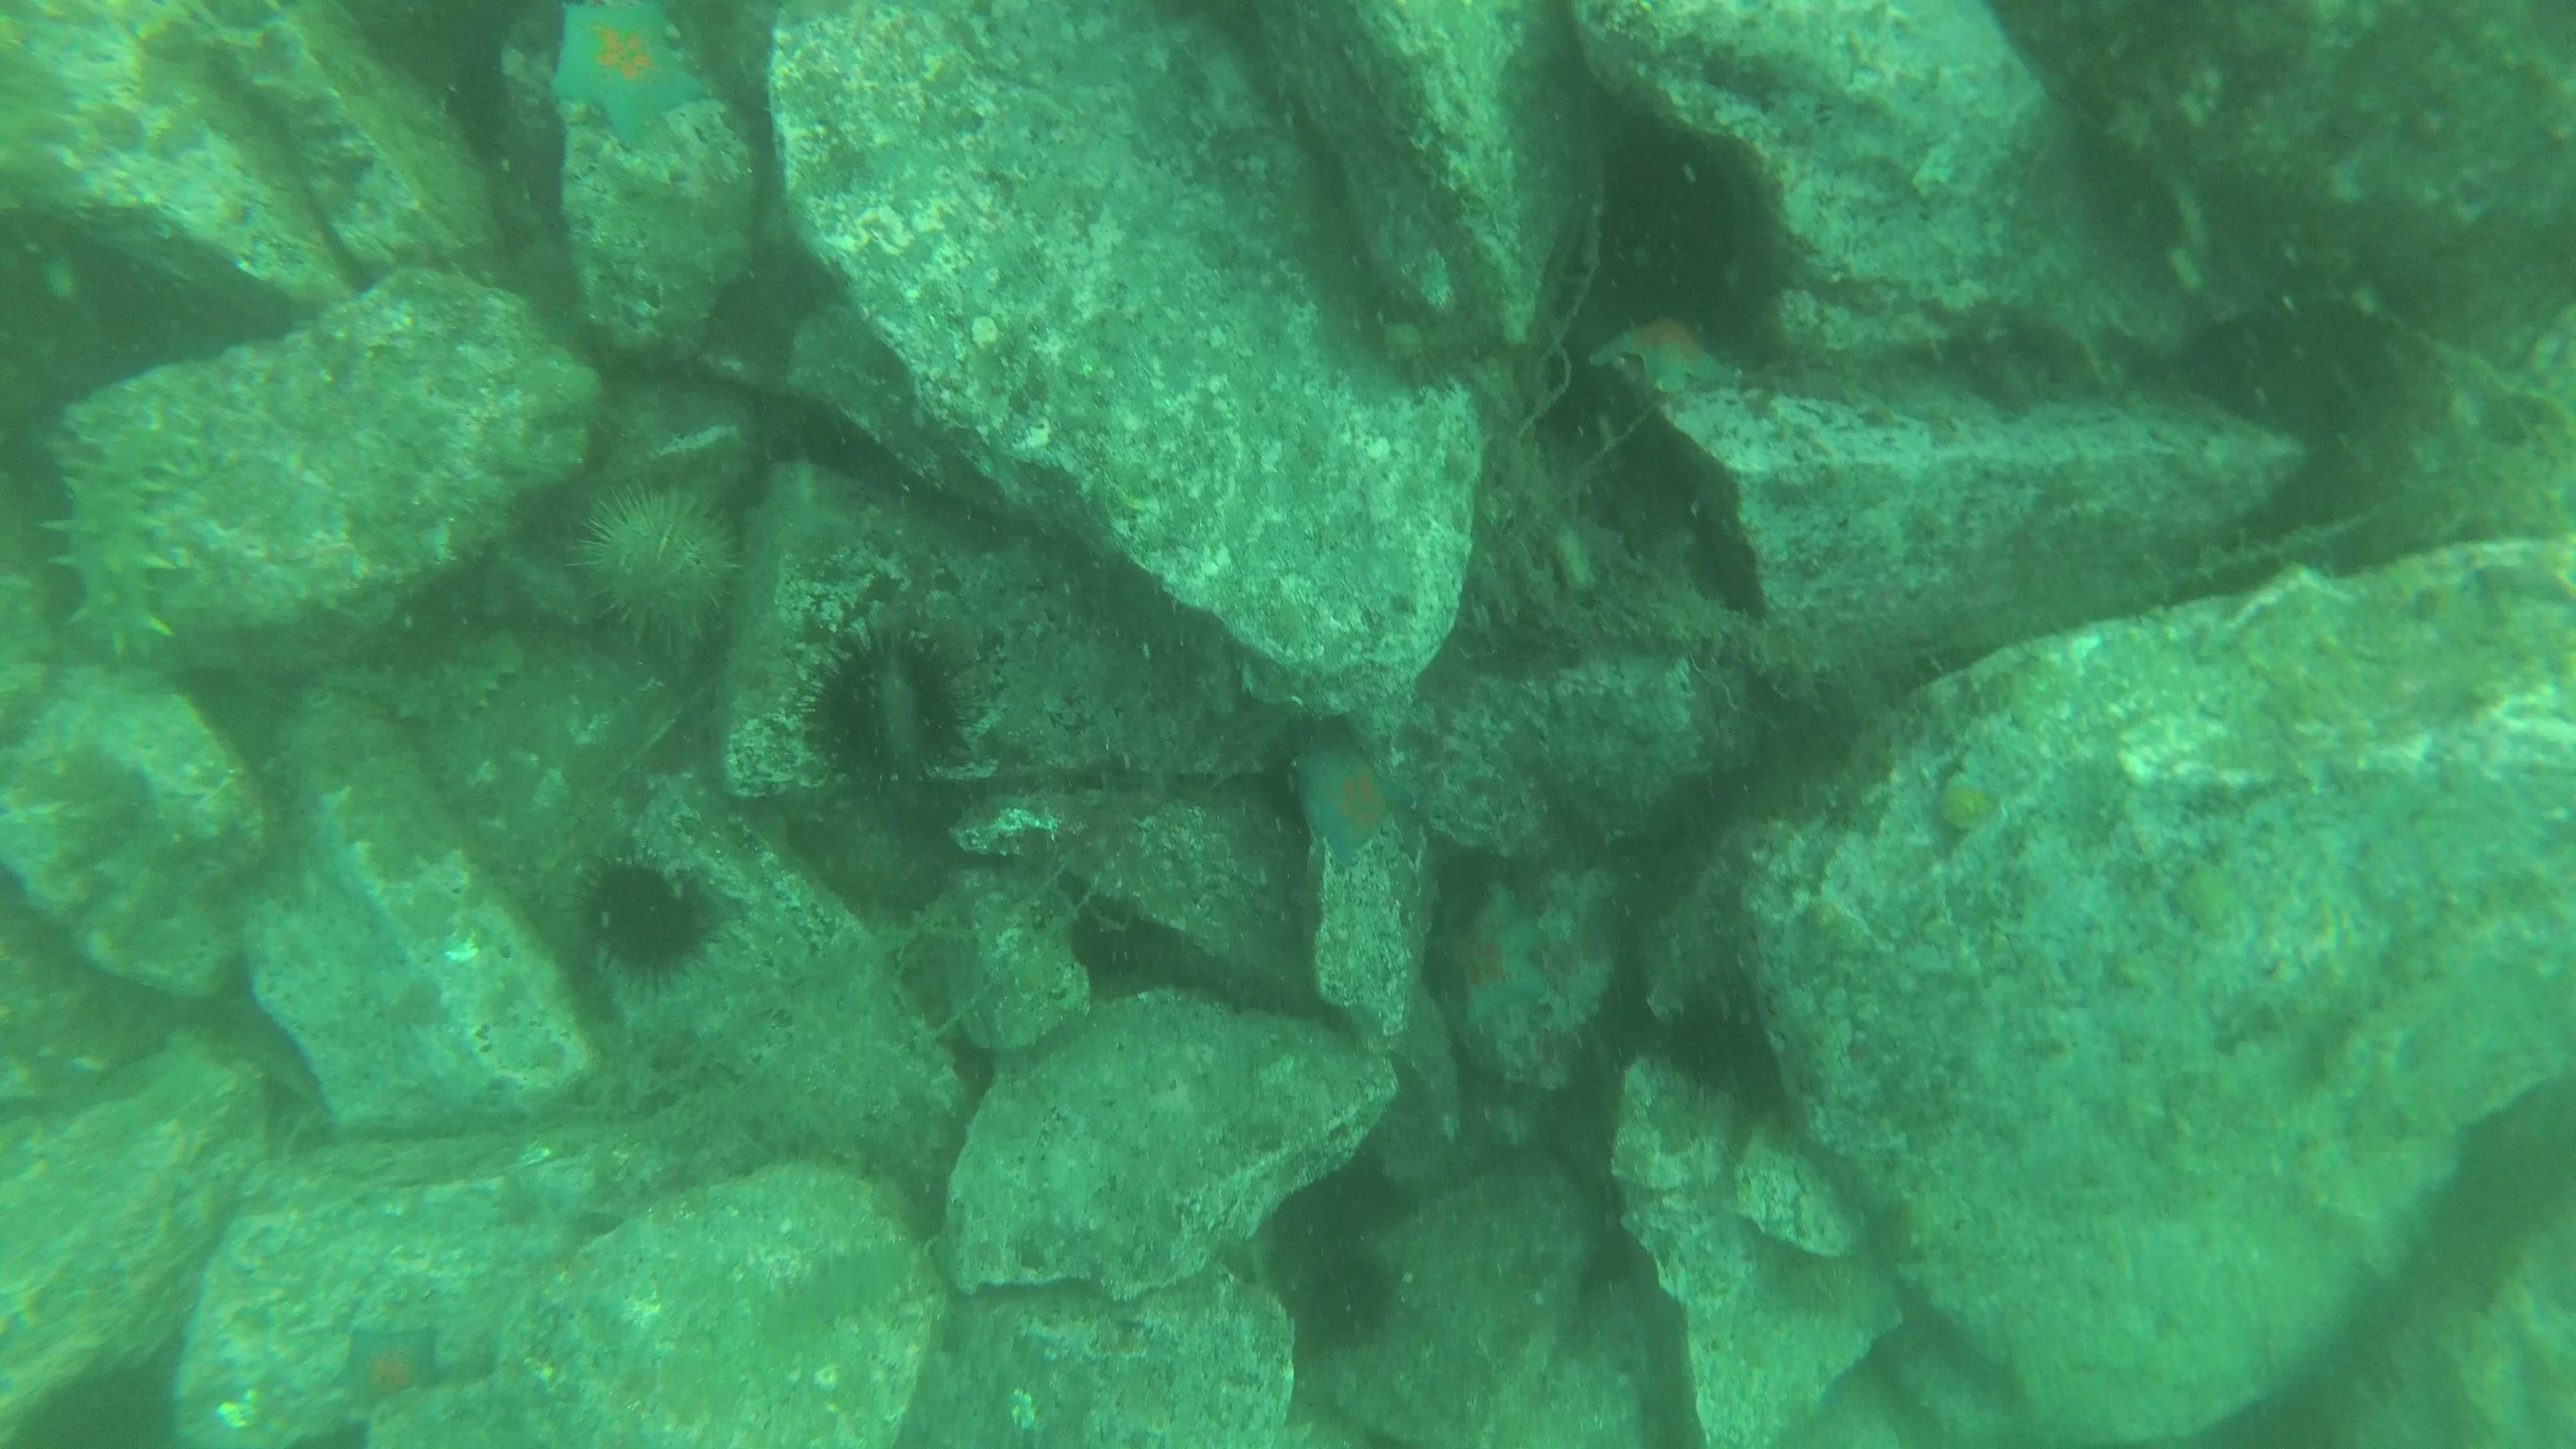echinus: (796, 621, 977, 794), (566, 479, 747, 651), (575, 849, 722, 984), (1654, 980, 1782, 1100), (1284, 1237, 1405, 1357)
holothurian: (39, 402, 196, 667), (384, 623, 531, 732)
starfish: (541, 2, 718, 152), (1424, 872, 1566, 1042), (1283, 729, 1421, 870), (1589, 306, 1750, 405), (326, 1311, 451, 1415)
